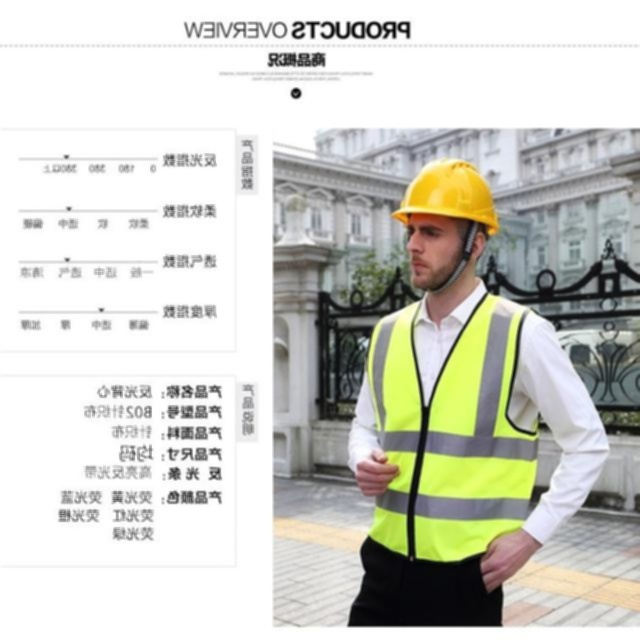Con_Casco: (393, 157, 497, 283)
Con_Chaleco: (371, 296, 546, 553)
